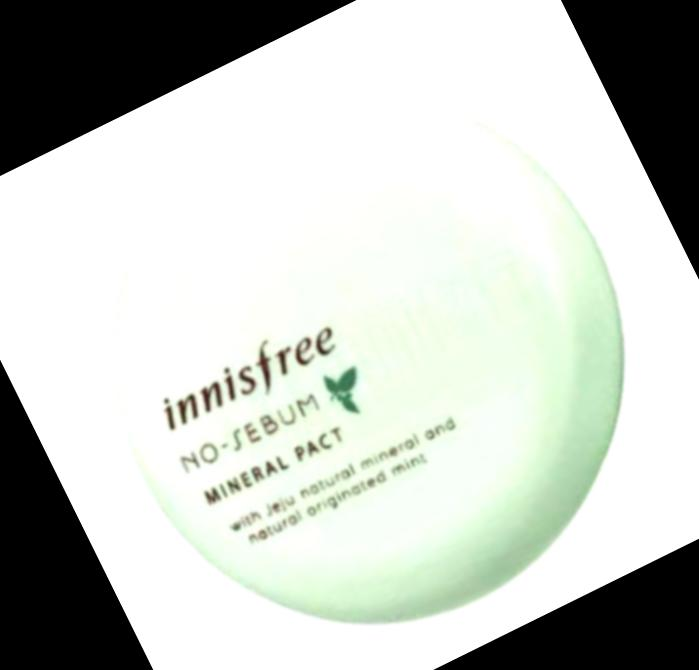cosmetic: (16, 2, 699, 670)
